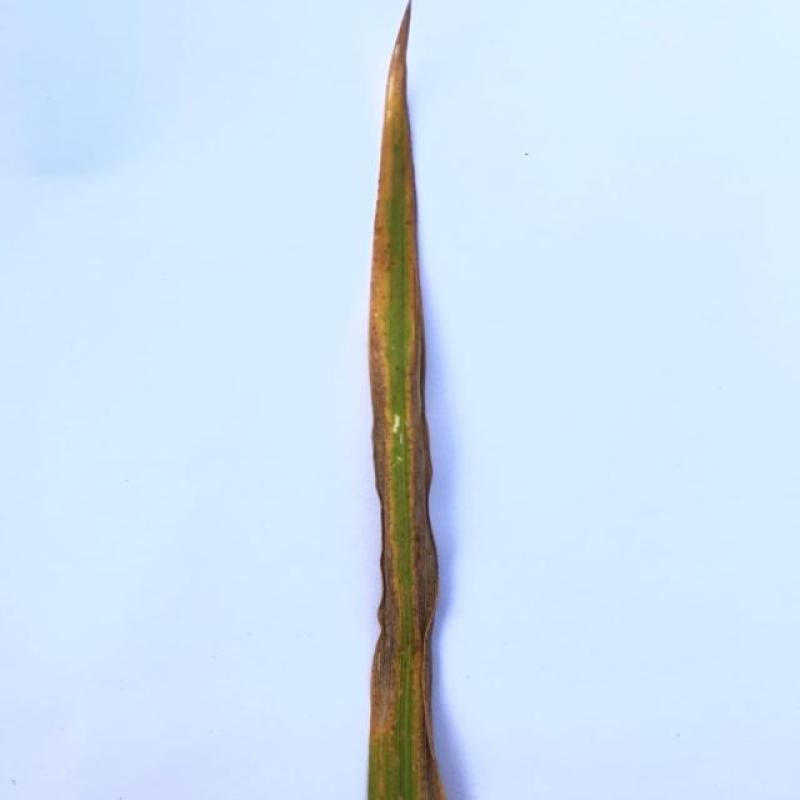Rice Tungro: (350, 0, 461, 800)
